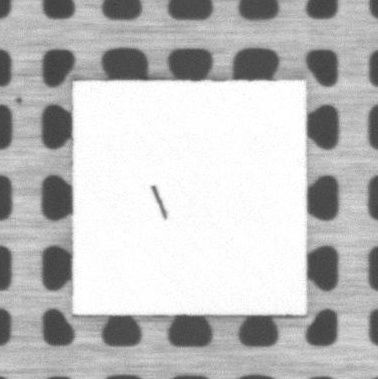DIE_INK: (150, 183, 170, 220)
